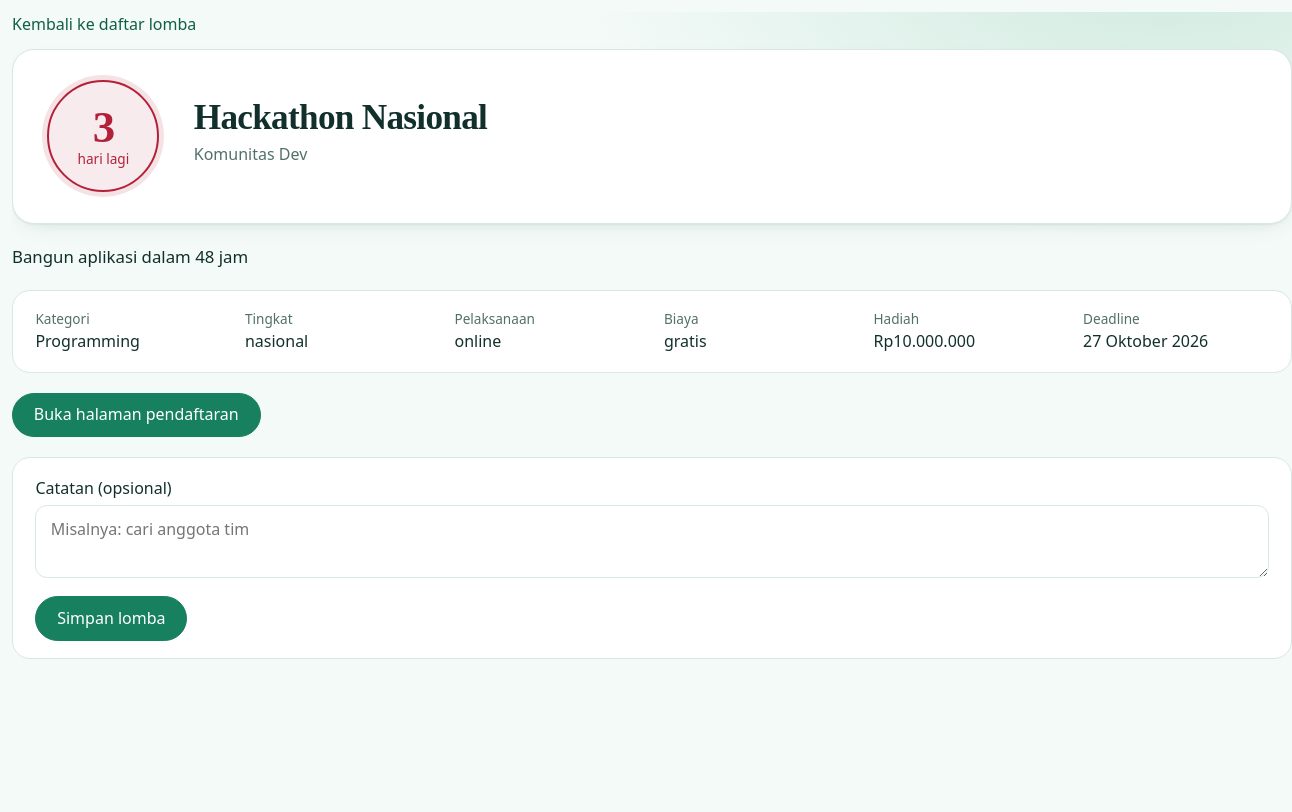
Test: Detail lomba › gagal menyimpan menampilkan error tetapi halaman tetap tampil
Click the button "Simpan lomba".
click(111, 619)  # box [35, 596, 187, 641]
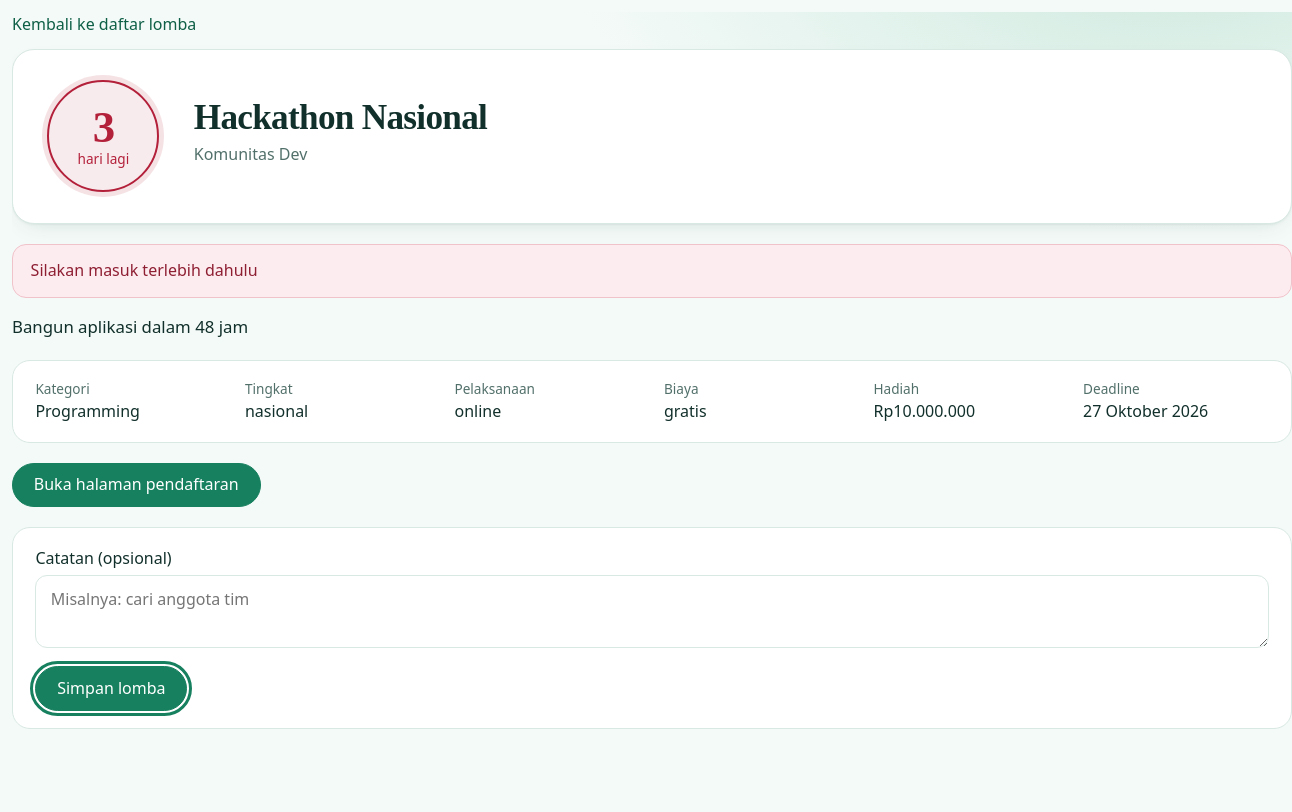
Expected: the heading "Hackathon Nasional" is shown, [194, 98, 487, 137]
Expected: the message reads "Silakan masuk terlebih dahulu", [31, 259, 258, 281]
